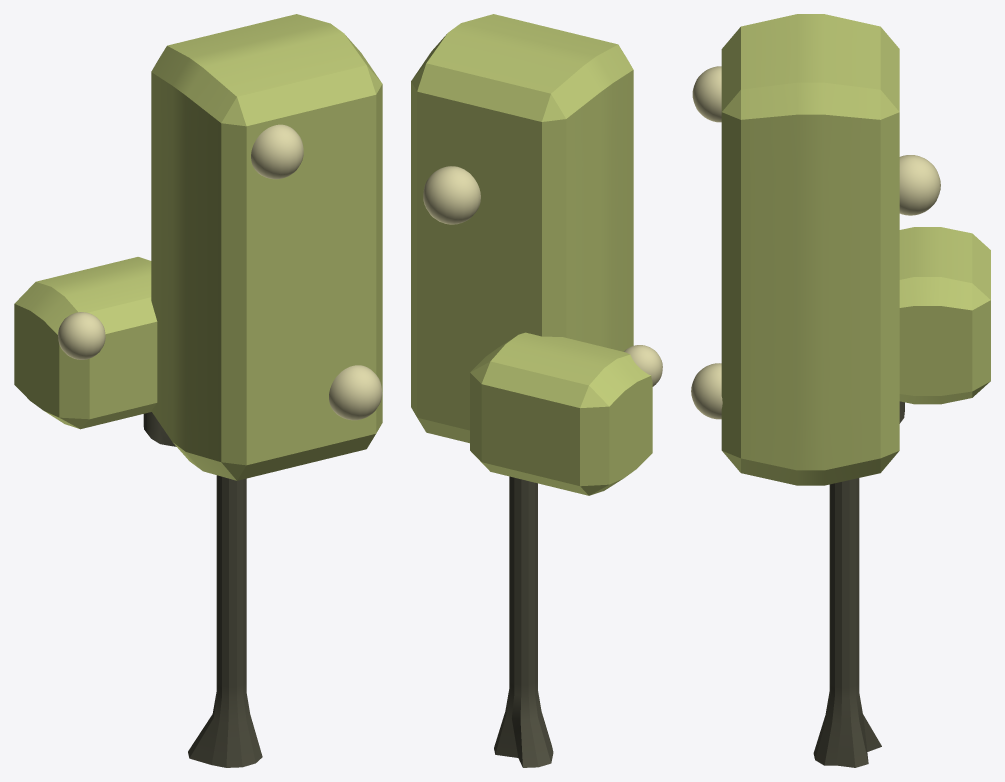
File: HighTree3Apple.fbx
The picture shows the model from 3 angles, left to right: view 1: azimuth 30°, elevation 25°; view 2: azimuth 150°, elevation 25°; view 3: azimuth 270°, elevation 25°; orthographic projection. The views are drawn at different scales.
Parts seen in each view (by area): view 1: pasted__Crown_Big, pasted__Crown_Sml, pasted__Bark, pasted__pasted__pSphere17, pasted__pSphere17, pasted__pasted__pasted__pSphere17; view 2: pasted__Crown_Big, pasted__Crown_Sml, pasted__Bark, pasted__pasted__pSphere18, pasted__pasted__pasted__pSphere17; view 3: pasted__Crown_Big, pasted__Crown_Sml, pasted__Bark, pasted__pasted__pSphere18, pasted__pasted__pSphere17, pasted__pSphere17.
Boxes of the visible parts, bbox=[...] form: pasted__Crown_Big: bbox=[151, 14, 382, 480]; pasted__Crown_Sml: bbox=[14, 257, 157, 429]; pasted__Bark: bbox=[143, 412, 262, 767]; pasted__pasted__pSphere17: bbox=[329, 365, 382, 420]; pasted__pSphere17: bbox=[251, 124, 303, 179]; pasted__pasted__pasted__pSphere17: bbox=[58, 312, 105, 359]; pasted__Crown_Big: bbox=[411, 14, 633, 443]; pasted__Crown_Sml: bbox=[470, 332, 652, 495]; pasted__Bark: bbox=[494, 476, 553, 767]; pasted__pasted__pSphere18: bbox=[423, 166, 480, 224]; pasted__pasted__pasted__pSphere17: bbox=[624, 345, 662, 386]; pasted__Crown_Big: bbox=[721, 14, 899, 485]; pasted__Crown_Sml: bbox=[899, 227, 990, 404]; pasted__Bark: bbox=[813, 401, 904, 767]; pasted__pasted__pSphere18: bbox=[899, 155, 940, 215]; pasted__pasted__pSphere17: bbox=[691, 363, 722, 419]; pasted__pSphere17: bbox=[692, 66, 721, 122].
Bounding box in the file's own units: 2.68 × 7.01 × 2.66.
